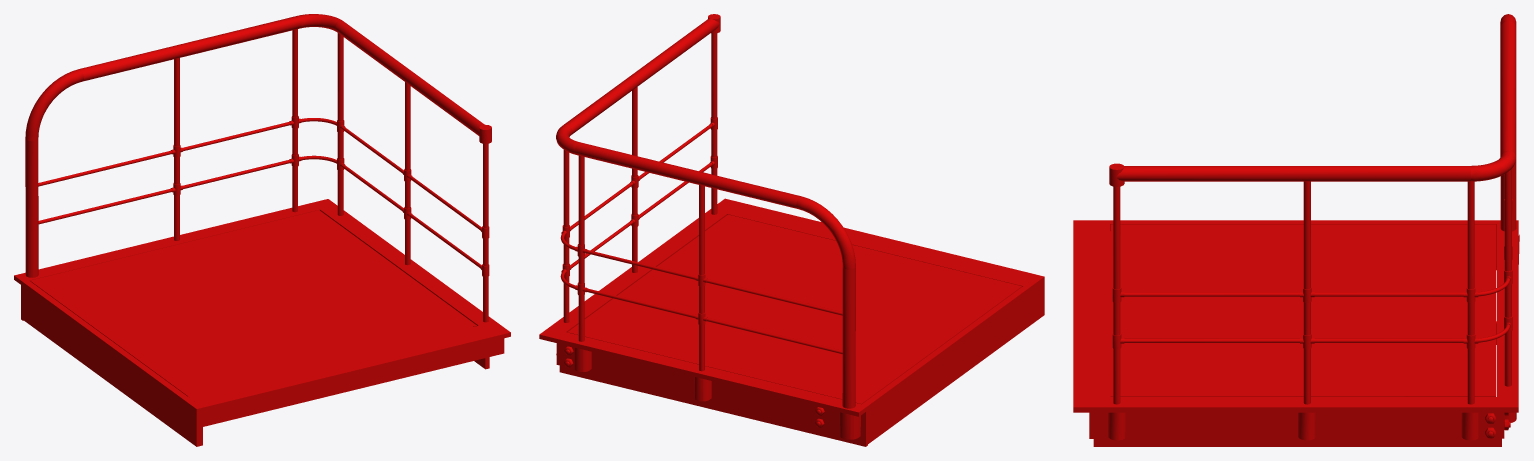
3 views of the same model, side by side, from view 1: azimuth 30°, elevation 25°; view 2: azimuth 150°, elevation 25°; view 3: azimuth 270°, elevation 25° (orthographic). The views are drawn at different scales.
Parts seen in each view (by area): view 1: Mesh; view 2: Mesh; view 3: Mesh.
Part boxes in pixels (<box>): Mesh: <box>14,14,510,446</box>; Mesh: <box>539,14,1044,446</box>; Mesh: <box>1073,14,1519,446</box>.
Bounding box in the file's own units: 2.12 × 1.5 × 2.13.
